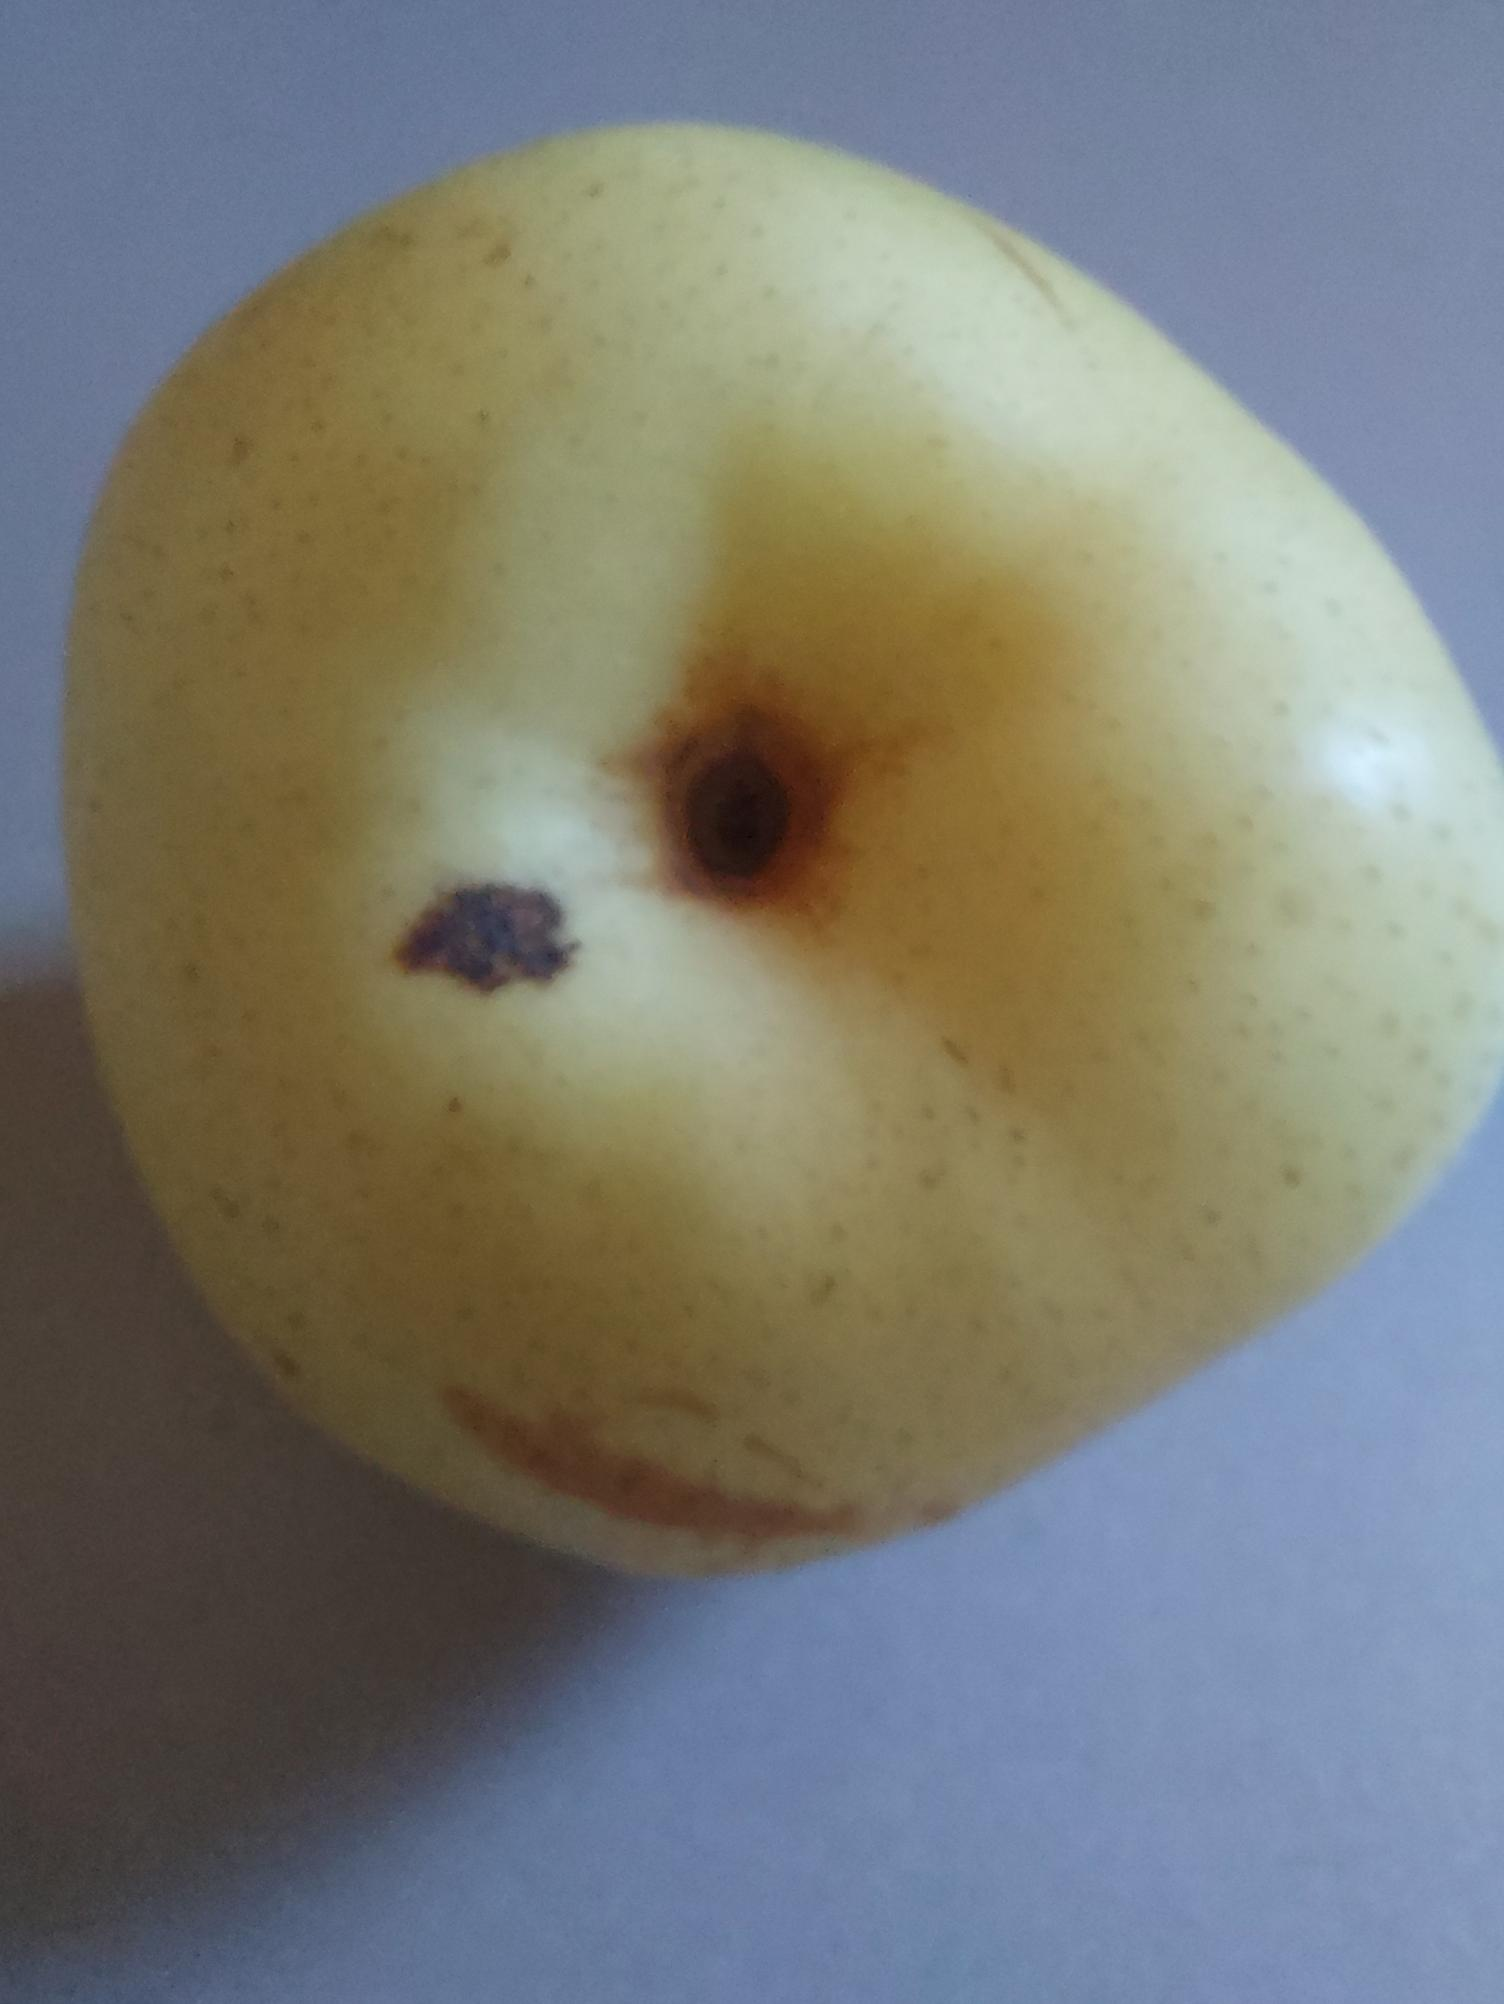Good Pear: (32, 90, 1504, 1620)
